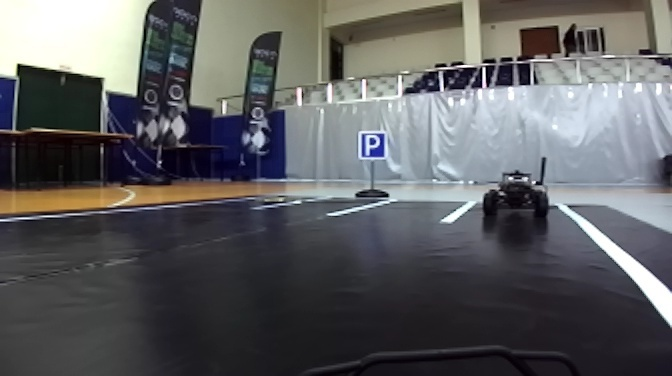park: (357, 131, 387, 161)
